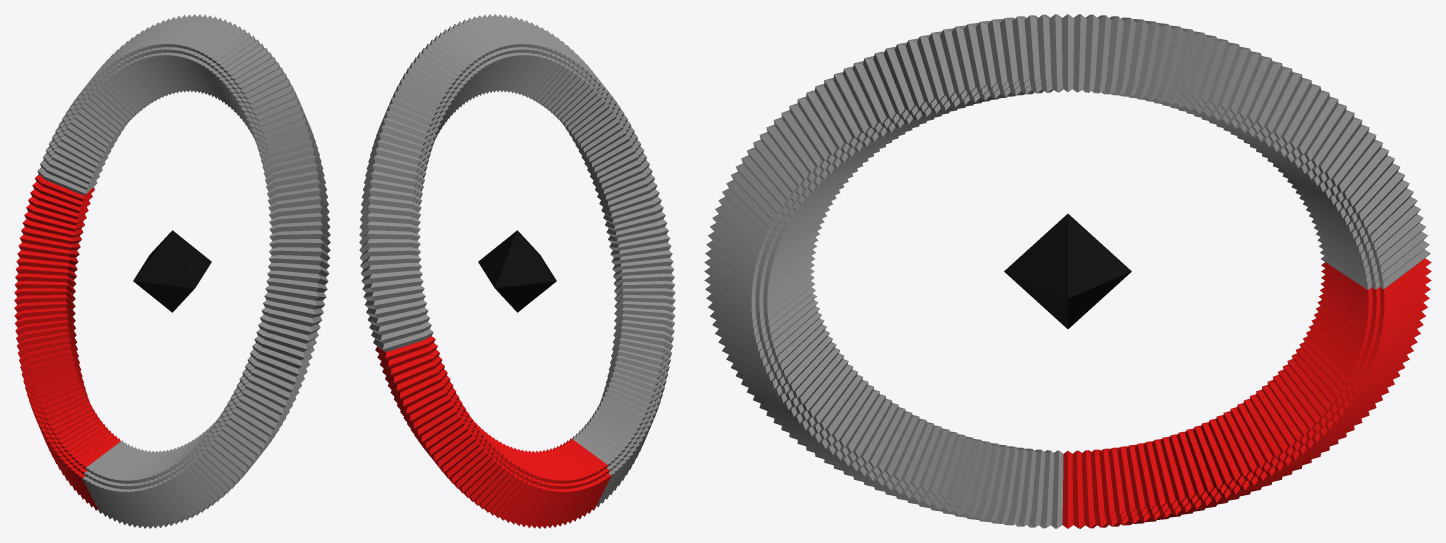
Rendered from local_feasible_centers.obj.
The picture shows the model from 3 angles, left to right: view 1: azimuth 30°, elevation 25°; view 2: azimuth 150°, elevation 25°; view 3: azimuth 270°, elevation 25°; orthographic projection. The views are drawn at different scales.
Visible parts, largest first — view 1: rejected_candidates, feasible_candidates, target_point_000087; view 2: rejected_candidates, feasible_candidates, target_point_000087; view 3: rejected_candidates, feasible_candidates, target_point_000087.
Part boxes in pixels (x1,y1,x2,y2): rejected_candidates: (37,14,330,528); feasible_candidates: (14,174,120,510); target_point_000087: (133,230,211,312); rejected_candidates: (359,14,675,507); feasible_candidates: (375,336,611,528); target_point_000087: (478,230,556,312); rejected_candidates: (704,14,1430,528); feasible_candidates: (1062,258,1431,528); target_point_000087: (1004,214,1131,328).
Size of the model in its own units: 0.00965 by 0.0216 by 0.023.
